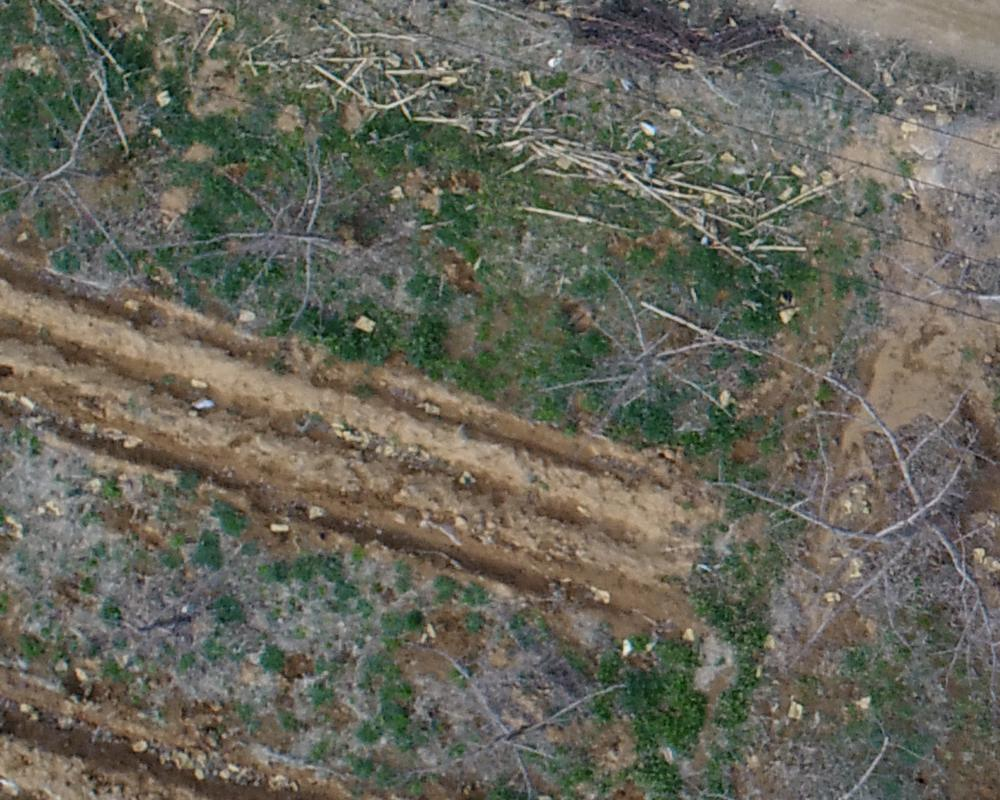apple: (719, 345, 990, 695), (154, 125, 391, 340), (520, 249, 763, 455), (423, 640, 643, 790), (10, 61, 144, 278)
